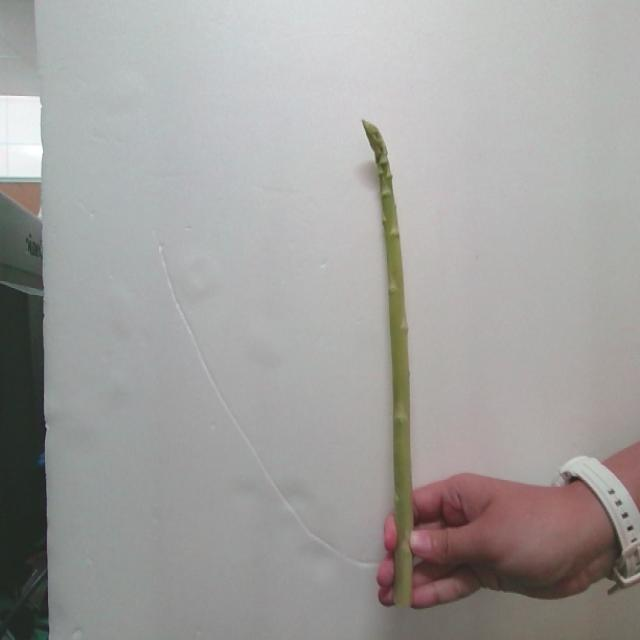aspargus: (363, 121, 414, 609)
